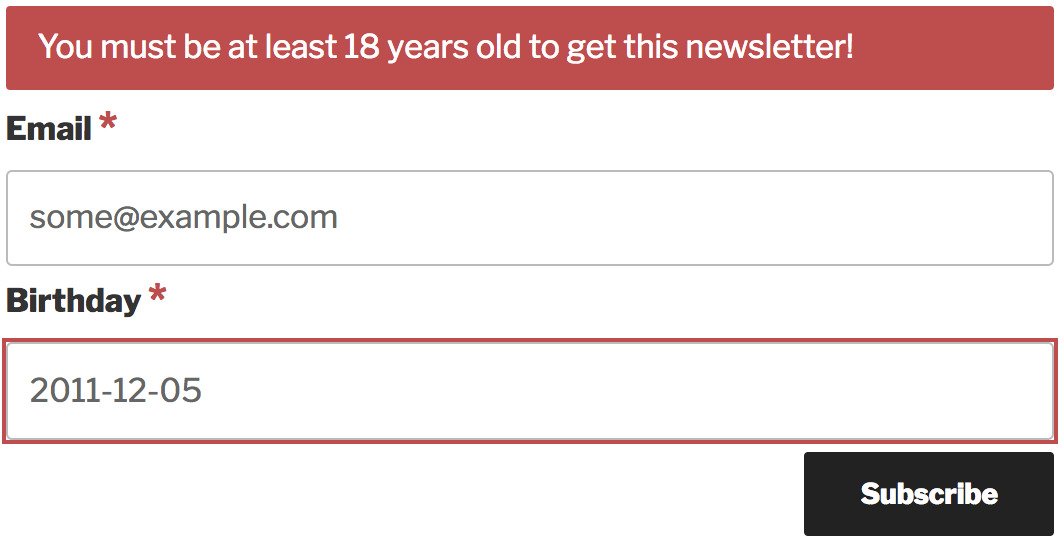error_field: (1, 337, 1059, 444)
error_message: (37, 31, 854, 63)
